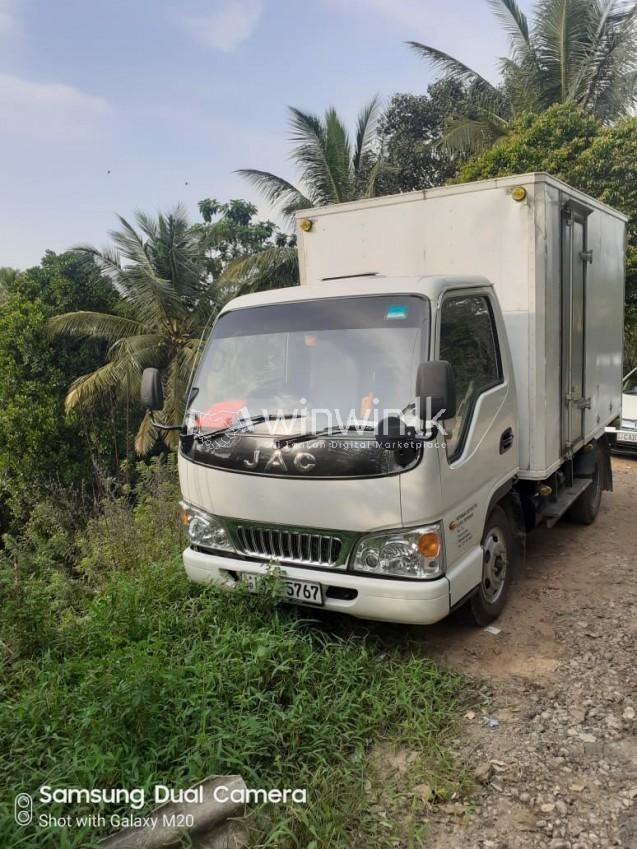truck: (141, 173, 628, 628)
